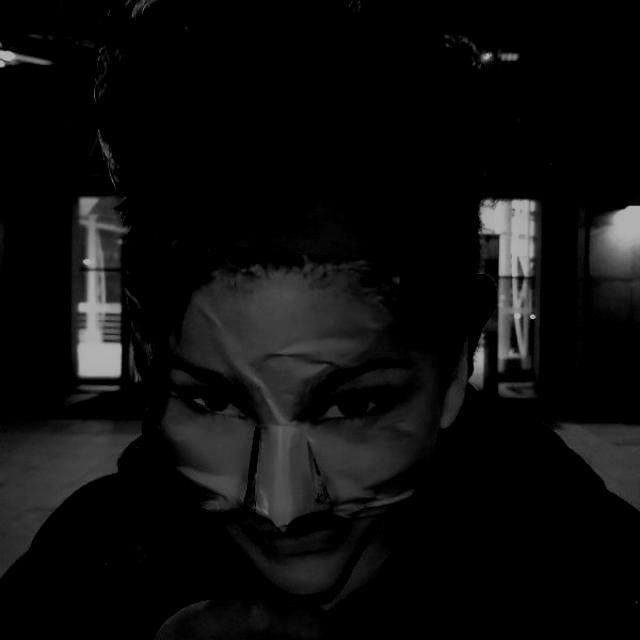fake: (195, 278, 403, 582)
